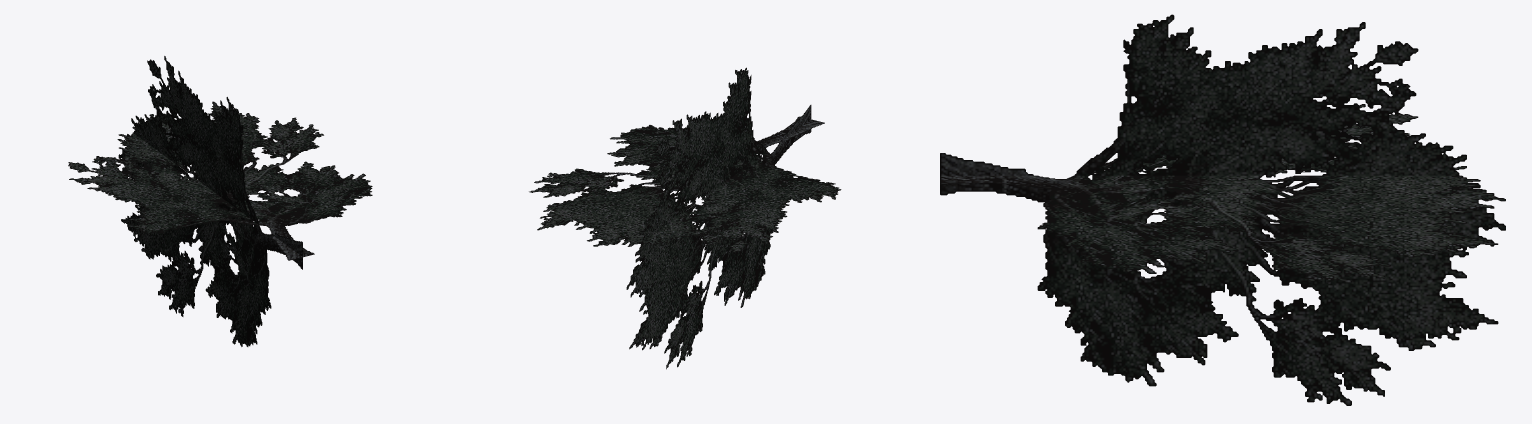
File: SM_EC_Tree_Cross_06.fbx
The picture shows the model from 3 angles, left to right: view 1: azimuth 30°, elevation 25°; view 2: azimuth 150°, elevation 25°; view 3: azimuth 270°, elevation 25°; orthographic projection. The views are drawn at different scales.
Visible parts, largest first — view 1: SM_EC_Tree_Cross_06; view 2: SM_EC_Tree_Cross_06; view 3: SM_EC_Tree_Cross_06.
Boxes of the visible parts, left/top/right/bottom form: SM_EC_Tree_Cross_06: left=68, top=56, right=372, bottom=346; SM_EC_Tree_Cross_06: left=529, top=67, right=841, bottom=369; SM_EC_Tree_Cross_06: left=940, top=14, right=1505, bottom=405.
Bounding box in the file's own units: 3.5 × 4.62 × 3.5.
